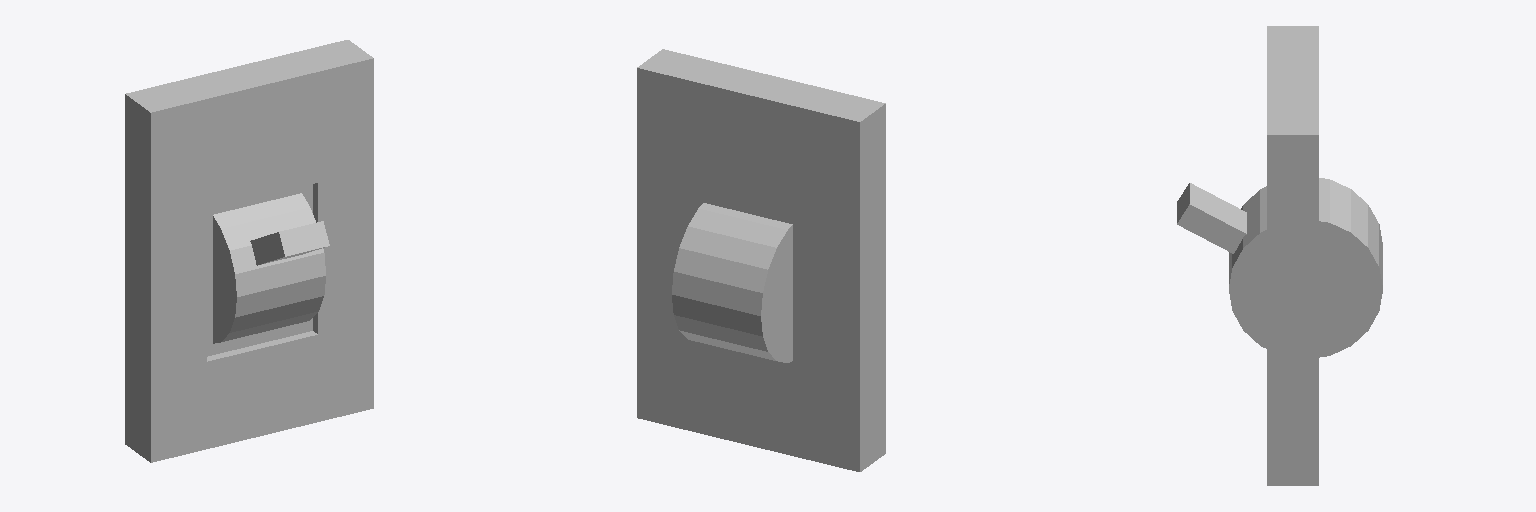
File: wallSwitch.obj
3 views of the same model, side by side, from view 1: azimuth 30°, elevation 25°; view 2: azimuth 150°, elevation 25°; view 3: azimuth 270°, elevation 25° (orthographic).
Visible parts, largest first — view 1: Boole; view 2: Boole; view 3: Boole.
Part boxes in pixels (x1,y1,x2,y2): Boole: (125,40,373,462); Boole: (637,49,885,471); Boole: (1177,26,1382,485).
Size of the model in its own units: 0.1 by 0.15 by 0.0801.